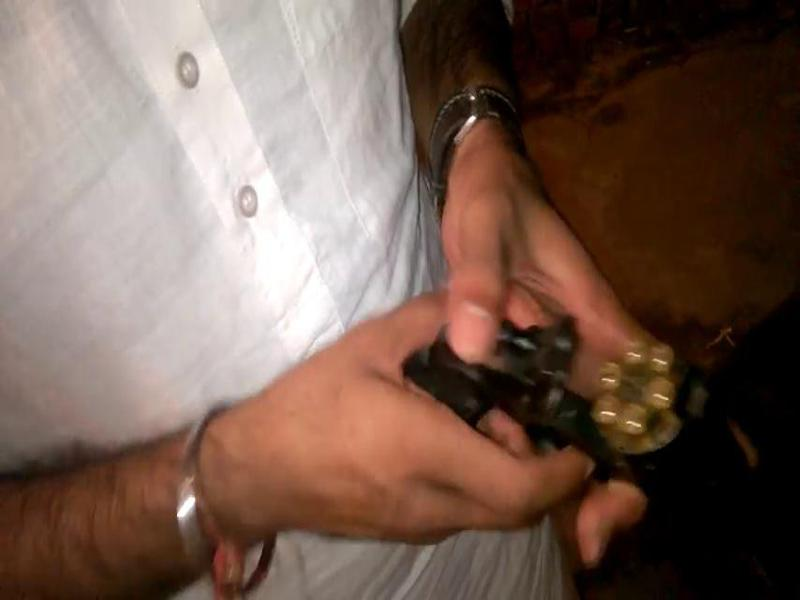Revolver: (407, 277, 797, 574)
